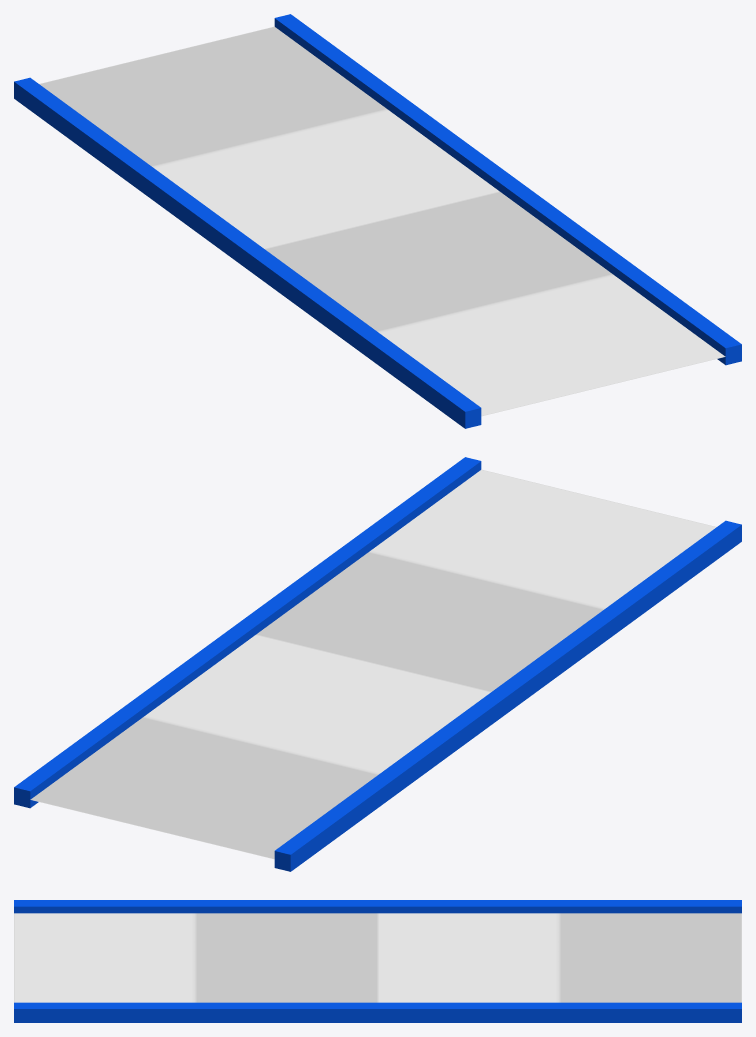
File: Module_45.fbx
3 renders of one model, top to bottom at view 1: azimuth 30°, elevation 25°; view 2: azimuth 150°, elevation 25°; view 3: azimuth 270°, elevation 25°, orthographic. The views are drawn at different scales.
Parts seen in each view (by area): view 1: Road (1), Road (3), Fence (2), Fence (1); view 2: Road (3), Road (1), Fence (2), Fence (1); view 3: Road (3), Road (1), Fence (1), Fence (2).
Part boxes in pixels (x1,y1,x2,y2): Road (1): (265, 192, 725, 416); Road (3): (39, 26, 499, 248); Fence (2): (14, 77, 481, 428); Fence (1): (274, 14, 741, 365); Road (3): (30, 635, 490, 859); Road (1): (256, 469, 716, 691); Fence (2): (274, 520, 741, 871); Fence (1): (14, 457, 481, 808); Road (3): (378, 913, 741, 1002); Road (1): (14, 913, 377, 1002); Fence (1): (14, 1002, 741, 1022); Fence (2): (14, 900, 741, 913).
Bounding box in the file's own units: 17 × 1 × 48.
Materials: 2 (1 with a texture image).
